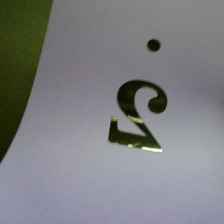violet2: (106, 34, 177, 166)
